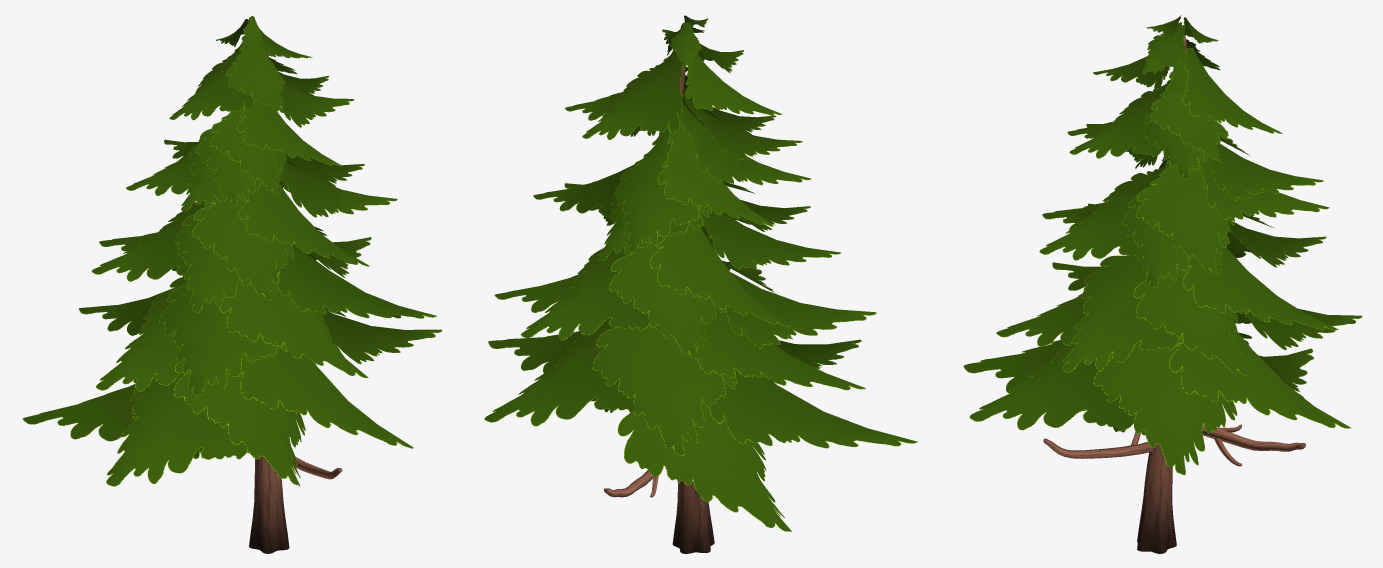
File: Pine_2.gltf
3 views of the same model, side by side, from view 1: azimuth 30°, elevation 25°; view 2: azimuth 150°, elevation 25°; view 3: azimuth 270°, elevation 25° (orthographic). The views are drawn at different scales.
Visible parts, largest first — view 1: Pine_2; view 2: Pine_2; view 3: Pine_2.
Part boxes in pixels (x1,y1,x2,y2): Pine_2: (22, 16, 441, 553); Pine_2: (484, 15, 917, 553); Pine_2: (963, 15, 1362, 553).
Bounding box in the file's own units: 5.73 × 7.38 × 5.22.
2 materials, 2 textured.
